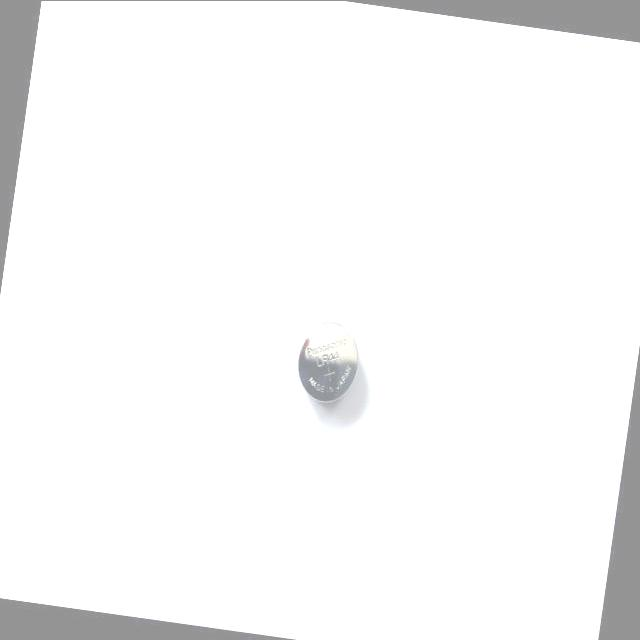COIN: (290, 318, 364, 408)
